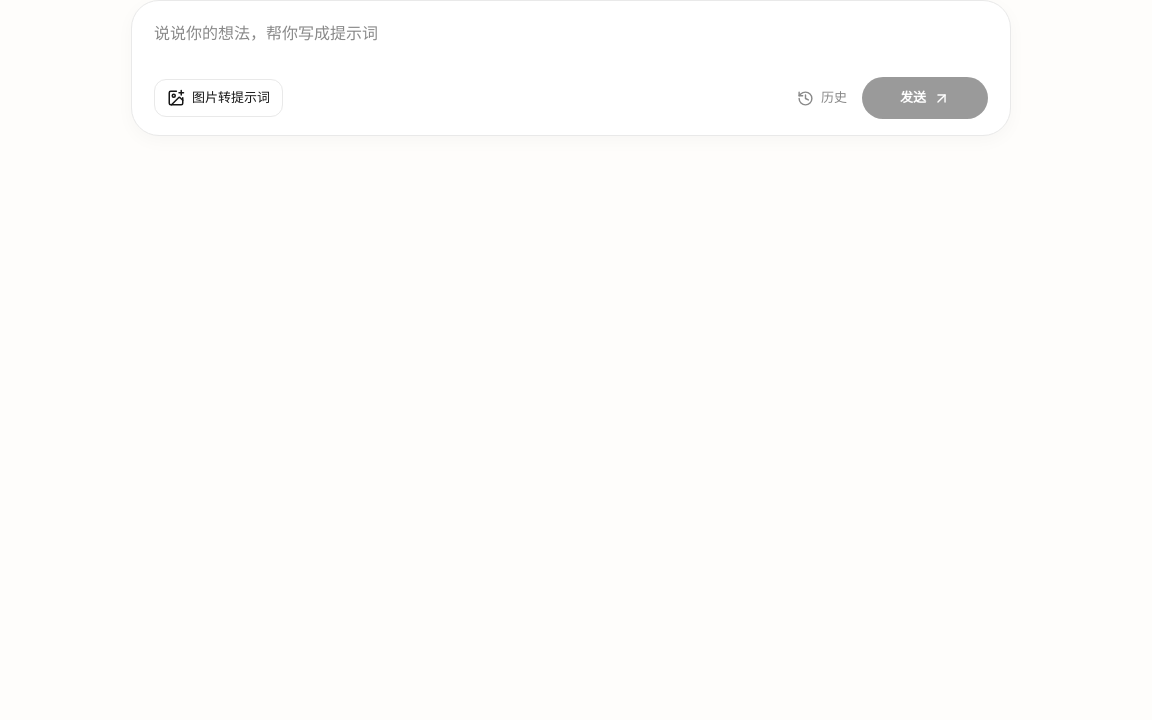
Scenario: real same-page creative workspace › preserves an edited version across collapsing and resuming the inline chat
Step 1. Click the button "历史" → click(822, 98), box [794,80,850,116]
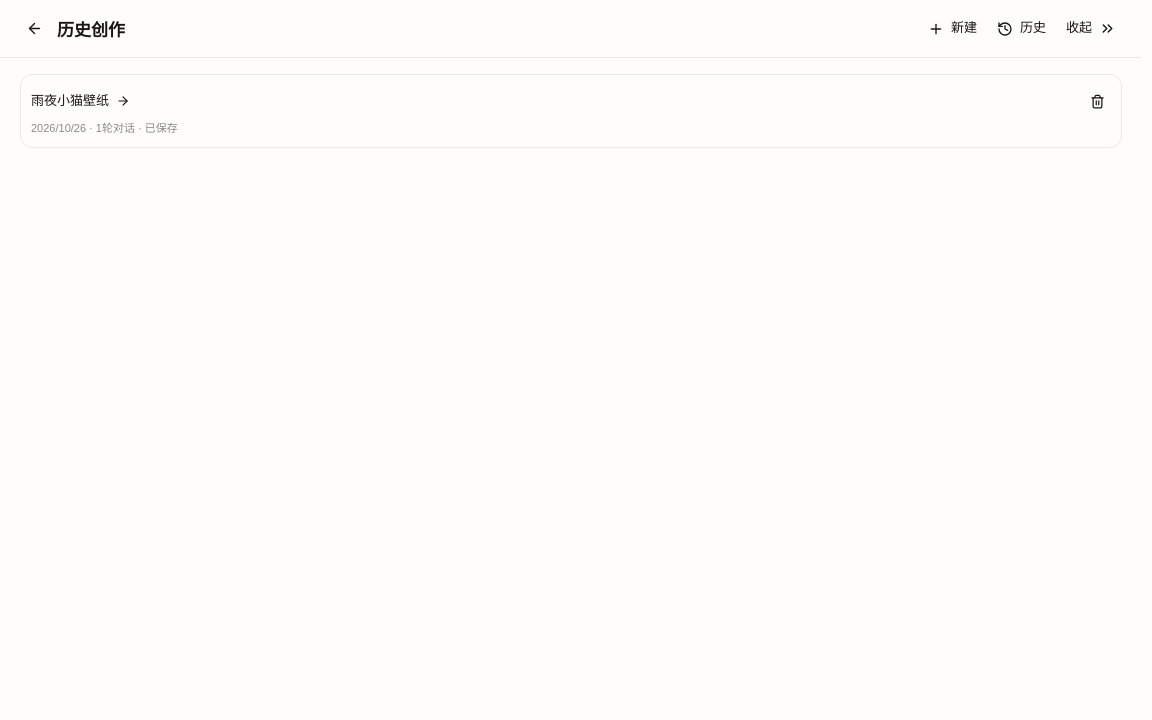
Step 2. Click the button "雨夜小猫壁纸" → click(70, 100), box [31,84,1076,117]
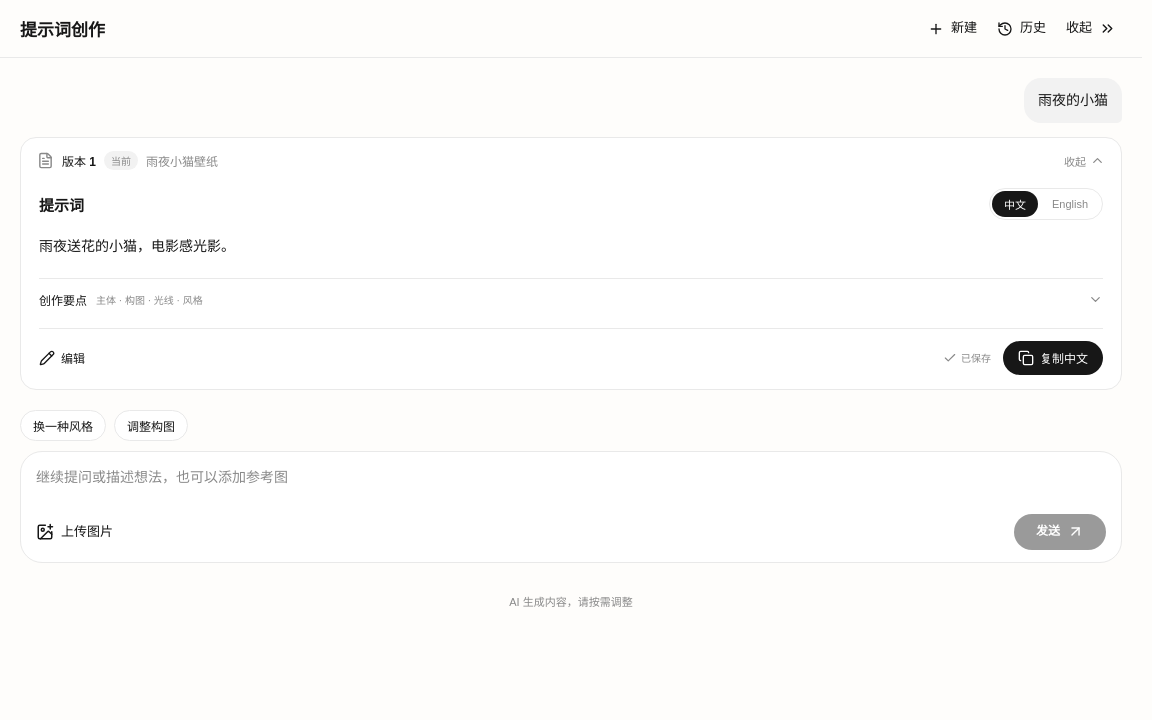
Expected: the text "雨夜送花的小猫，电影感光影。" is shown, [39,238,235,254]
Step 3. Click the button "编辑" → click(62, 358), box [39,341,85,375]
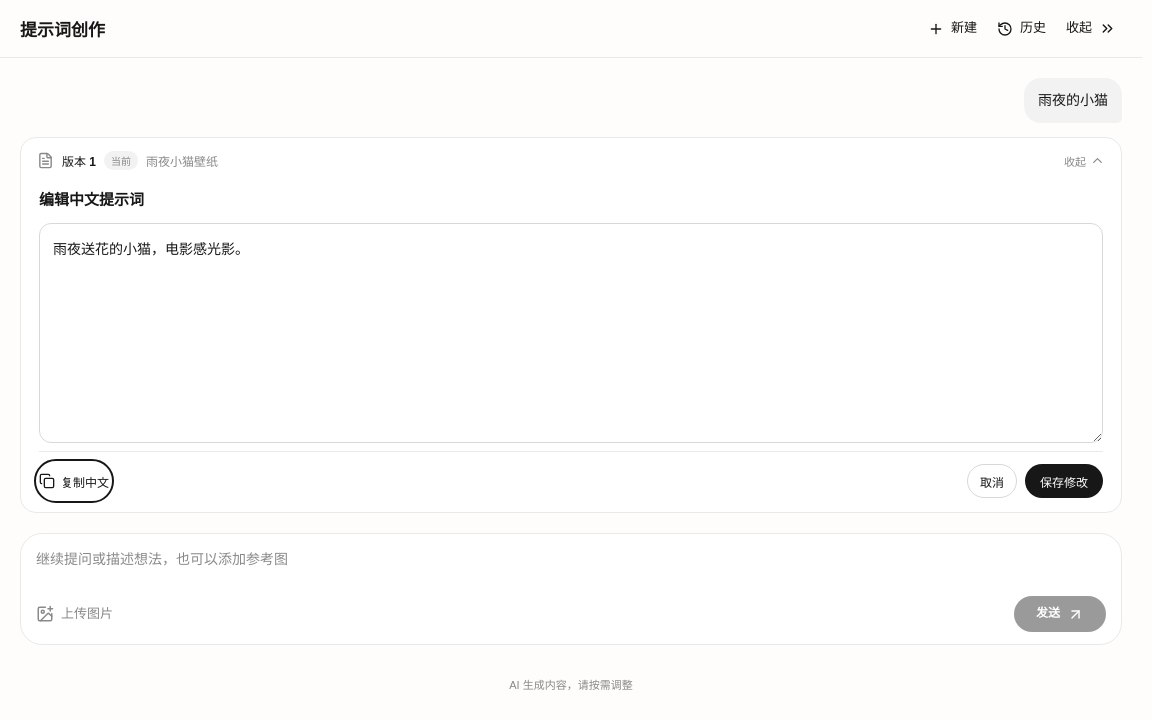
Step 4. Replace the text in the text box named "编辑中文提示词" with "收起后仍保留的草稿" → (571, 333), box [39,223,1103,443]
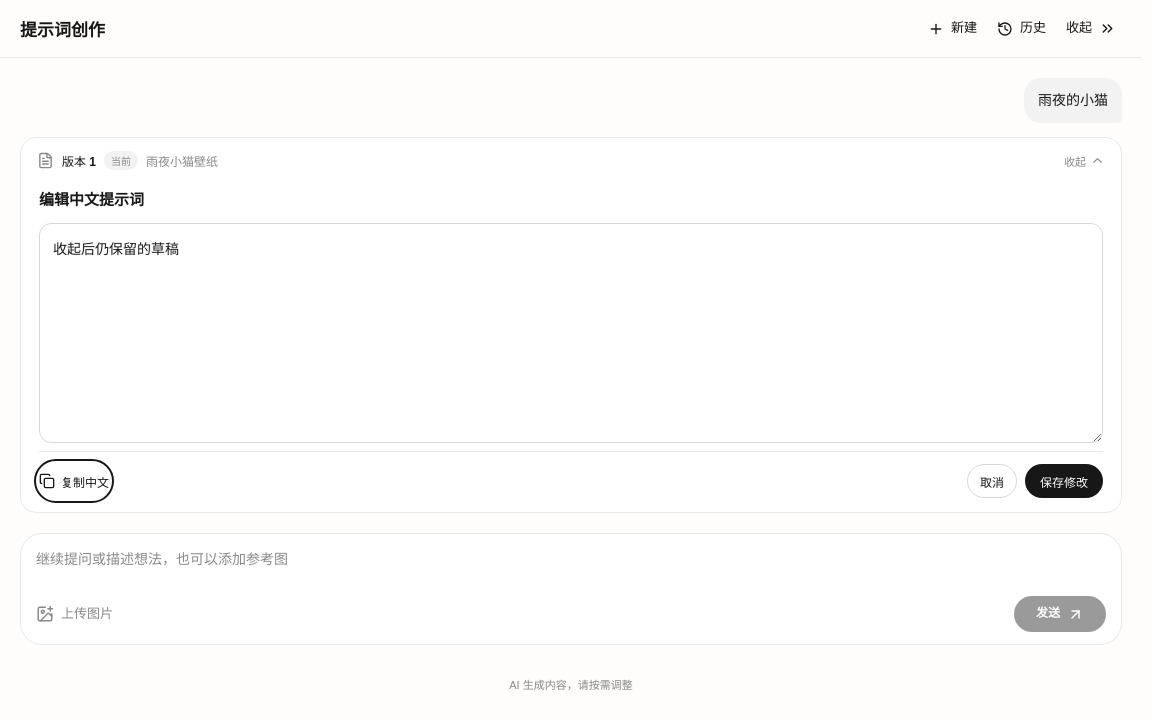
Step 5. Click the button "收起" → click(1091, 28), box [1060,10,1122,46]
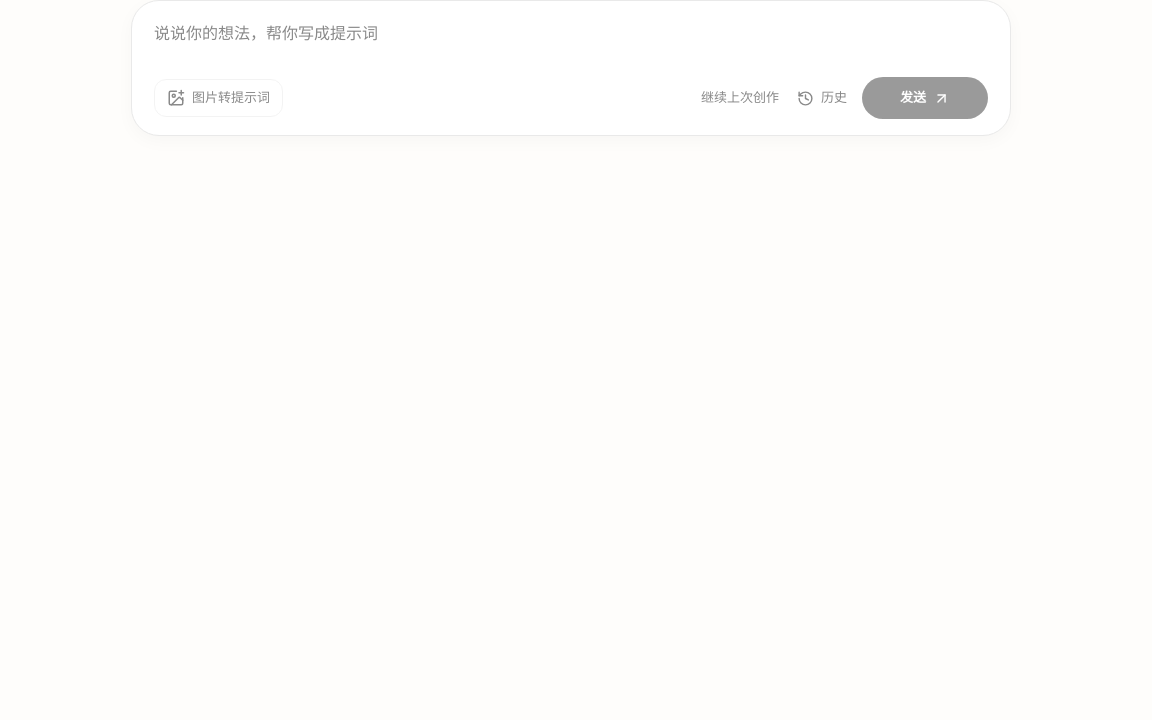
Step 6. Click the button "继续上次创作" → click(740, 98), box [698,80,782,116]
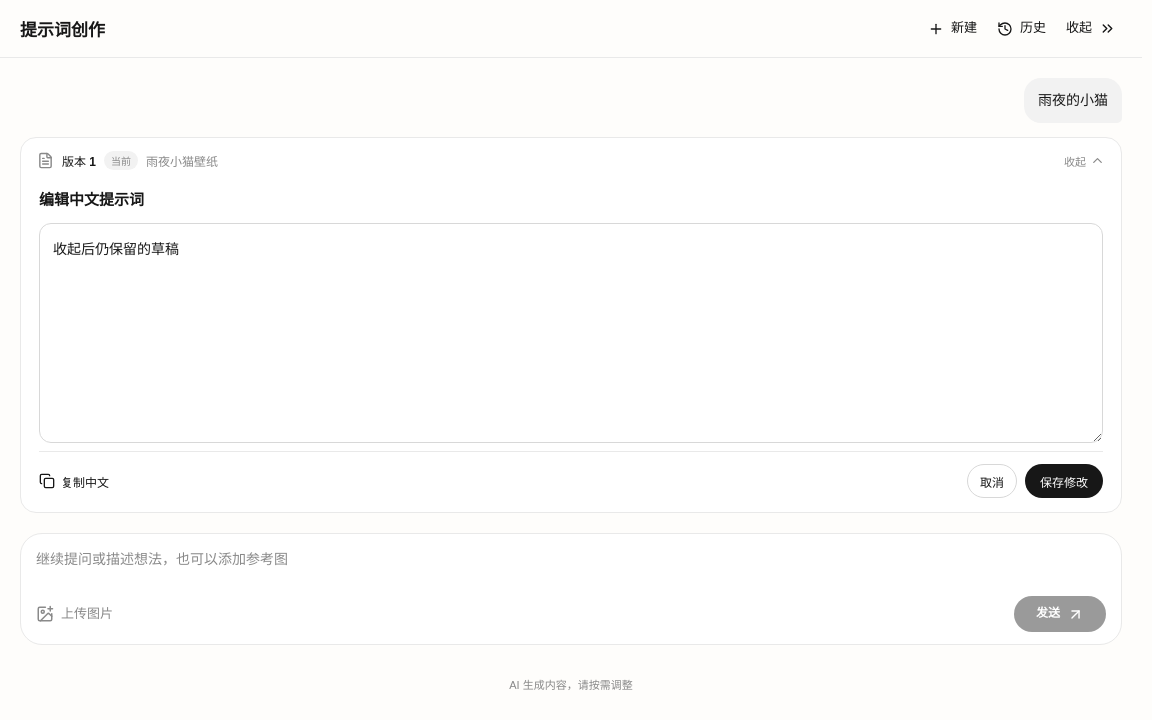
Expected: the text box named "编辑中文提示词" holds "收起后仍保留的草稿", [39,223,1103,443]
